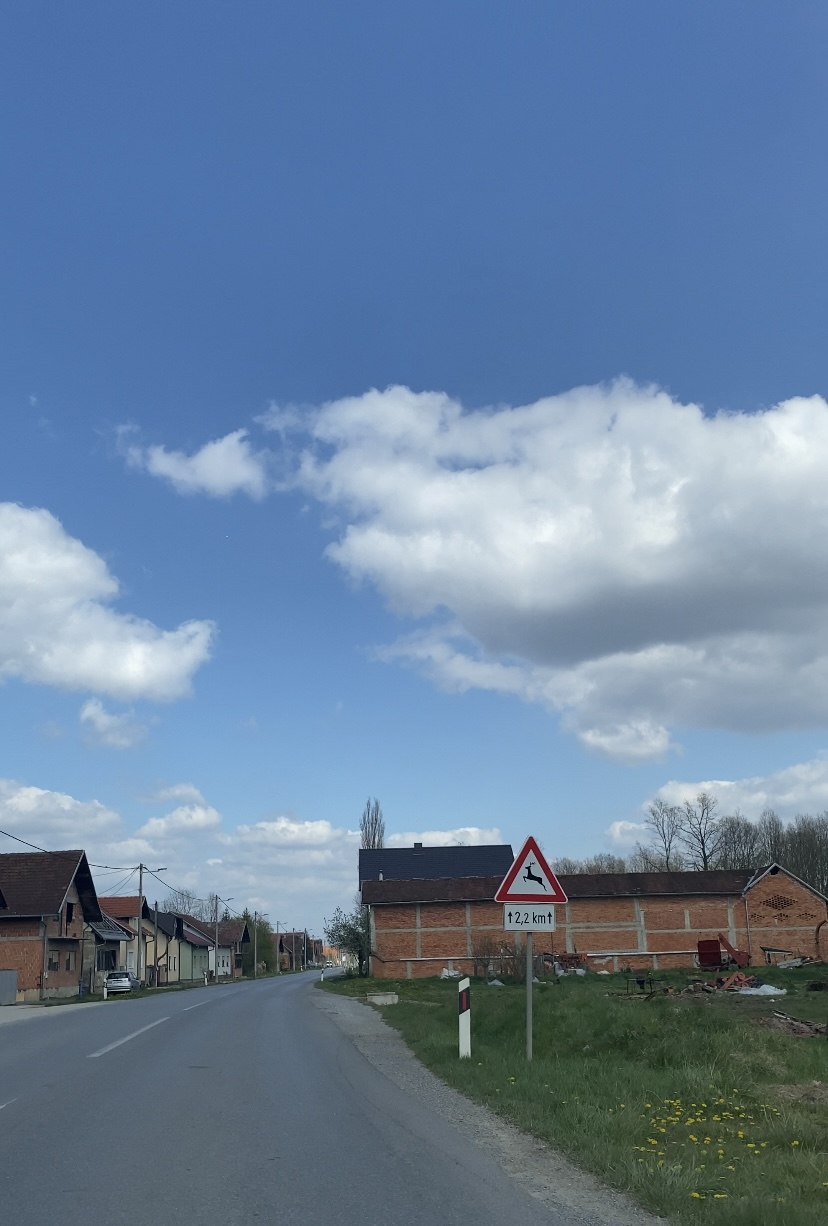Divljač na cesti: (494, 834, 568, 904)
